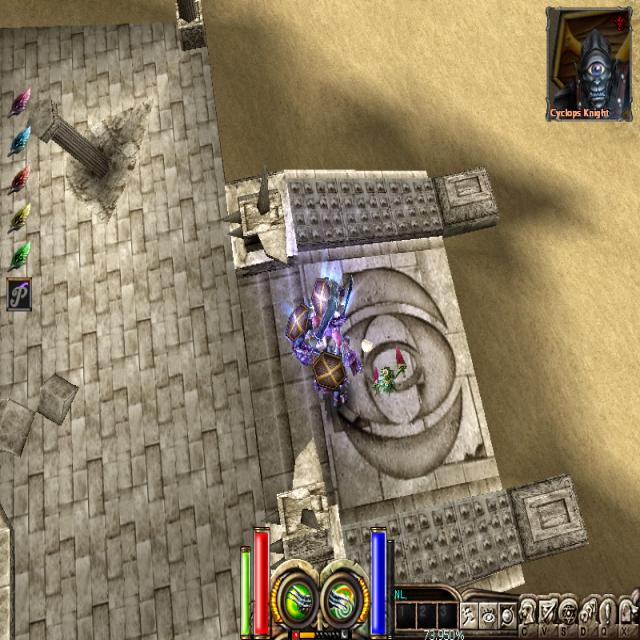monster: (358, 333, 374, 359)
